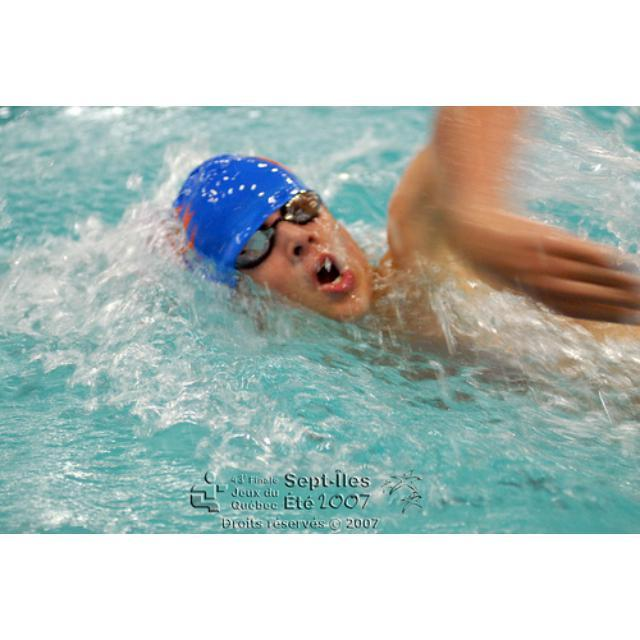human: (167, 107, 639, 401)
